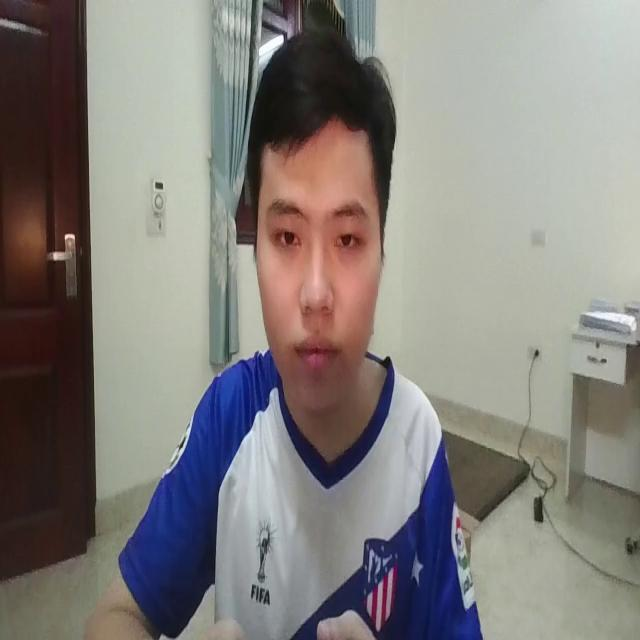student: (93, 26, 489, 640)
